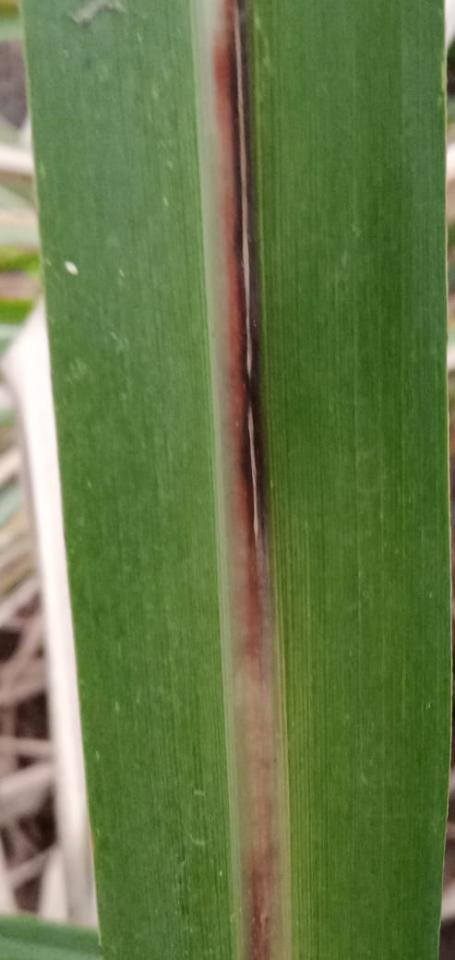RedRot: (212, 0, 269, 661), (244, 801, 282, 959)
